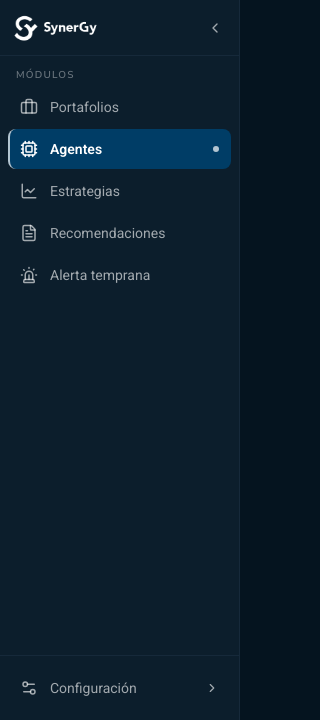
Test: Sidebar › muestra Mi Perfil al abrir Configuración
The width and height of the screenshot is (320, 720).
Expected: the text "Mi Perfil" is not shown
What coordinates should you click on to do the following:
click the button "Configuración"
I would click on:
 (120, 688)
Its box is [8, 668, 231, 708].
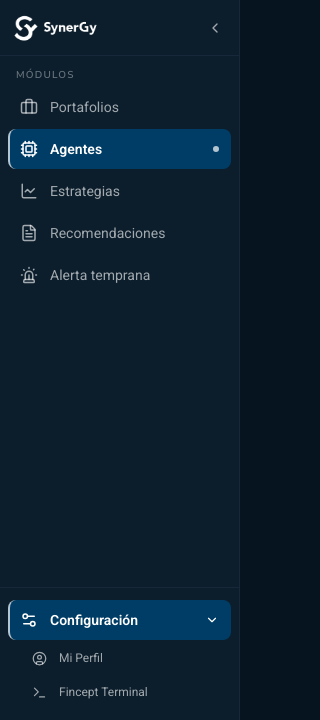
Expected: the text "Mi Perfil" is shown, [59, 650, 103, 666]
